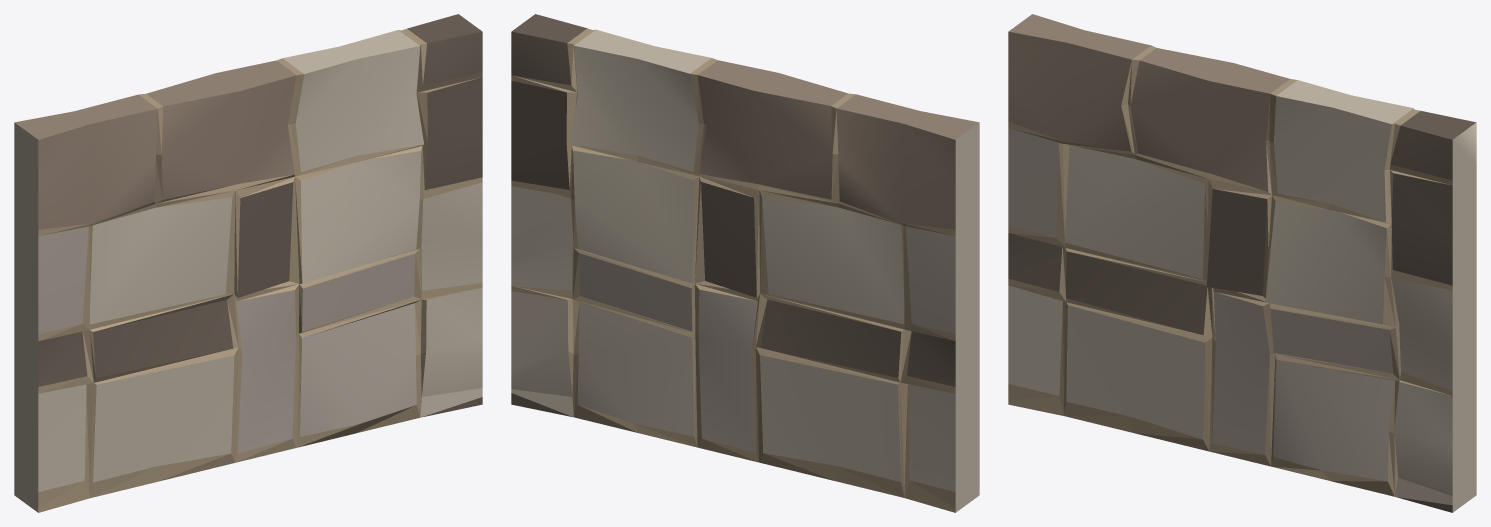
The model's file is RG-Dungeon_Wall-06.fbx.
3 views of the same model, side by side, from view 1: azimuth 30°, elevation 25°; view 2: azimuth 150°, elevation 25°; view 3: azimuth 330°, elevation 25° (orthographic).
Parts seen in each view (by area): view 1: RG-Dungeon_Wall-06; view 2: RG-Dungeon_Wall-06; view 3: RG-Dungeon_Wall-06.
Boxes of the visible parts, left/top/right/bottom form: RG-Dungeon_Wall-06: left=14, top=14, right=482, bottom=512; RG-Dungeon_Wall-06: left=511, top=14, right=979, bottom=512; RG-Dungeon_Wall-06: left=1008, top=14, right=1476, bottom=512.
Bounding box in the file's own units: 20 × 16.05 × 2.49.
